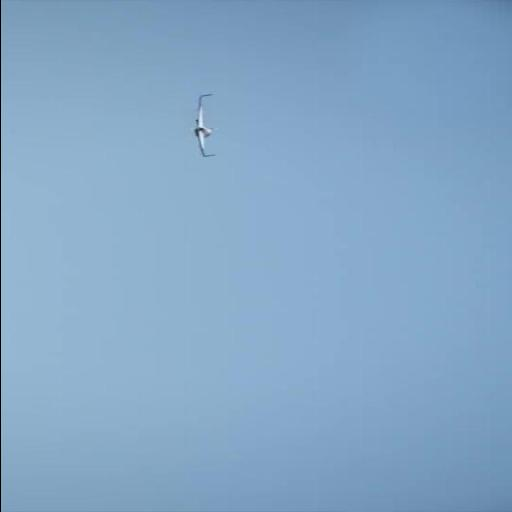uav: (184, 92, 223, 160)
